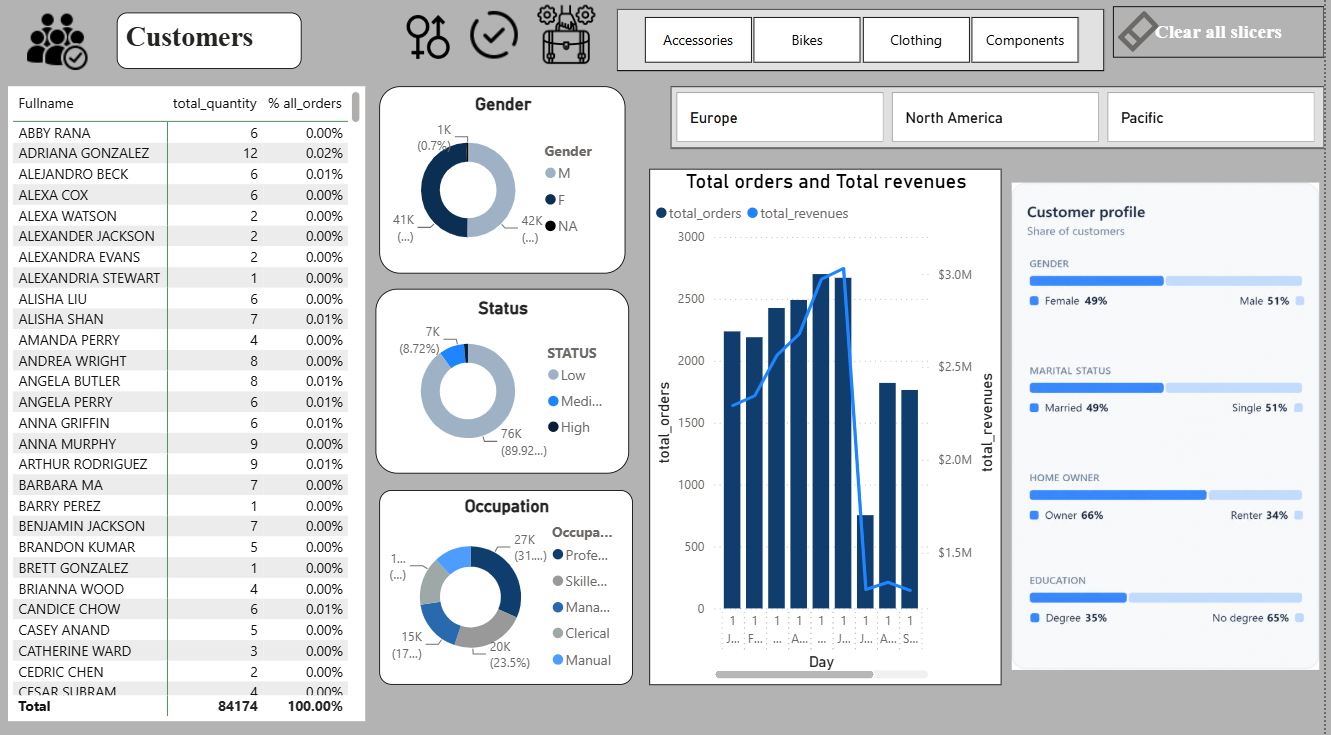

This screenshot's page, from the dashboard's own definition file:
{"tool":"powerbi","page":{"name":"Customers","canvas":[1280,720],"ordinal":2},"visuals":[{"type":"donutChart","title":"Status","fields":{"Y":["Sales.total_quantity"],"Category":["Customers.STATUS"]},"box":[719,76,244.9,178.6],"z":0},{"type":"donutChart","title":"Gender","fields":{"Y":["Sales.total_quantity"],"Category":["Customers.Gender"]},"box":[442.8,76,237.7,181],"z":1000},{"type":"pivotTable","fields":{"Values":["Sales.total_quantity","Sales.% all_orders"],"Rows":["Customers.Fullname"]},"box":[21.7,0,374,645.4],"z":2000},{"type":"treemap","title":" Age","fields":{"Group":["Customers.Age"],"Values":["Sales.total_quantity"]},"box":[939.8,273.9,337.8,388.5],"z":3000},{"type":"donutChart","title":"Occupation","fields":{"Y":["Sales.total_quantity"],"Category":["Customers.Occupation"]},"box":[1006.2,76,238.9,170.1],"z":4000},{"type":"lineStackedColumnComboChart","title":"Total orders and Total revenues","fields":{"Y":["Sales.total_orders"],"Y2":["Sales.total_revenues"],"Category":["Calendar.Start of Month.Variation.Date Hierarchy.Month","Calendar.Start of Month.Variation.Date Hierarchy.Day"]},"box":[395.7,290.8,524.8,371.6],"z":5000},{"type":"image","box":[518.8,7.2,94.1,51.9],"z":6000},{"type":"image","box":[1044.8,7.2,160.5,68.8],"z":7000},{"type":"image","box":[775.7,13.3,129.1,57.9],"z":8000}]}

Visuals, with their boxes in screenshot pixels (x1, y1, x2, y2), scaled from the page's 1280x720 canvas onto the 1331x735 screenshot:
"Status" donutChart: <region>748, 78, 1002, 260</region>
"Gender" donutChart: <region>460, 78, 708, 262</region>
pivotTable - Sales.total_quantity x Sales.% all_orders: <region>23, 0, 411, 659</region>
" Age" treemap: <region>977, 280, 1329, 676</region>
"Occupation" donutChart: <region>1046, 78, 1295, 251</region>
"Total orders and Total revenues" lineStackedColumnComboChart: <region>411, 297, 957, 676</region>
image: <region>539, 7, 637, 60</region>
image: <region>1086, 7, 1253, 78</region>
image: <region>807, 14, 941, 73</region>
